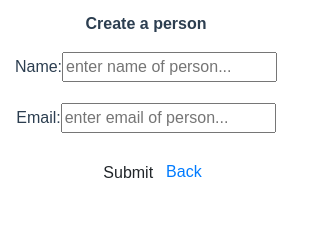
Test: NewPerson.Vue › NewPerson form tests › email should correctly validate
Type "cody" into the field with id "emailInput". click: {"x": 168, "y": 118}
box: [61, 103, 276, 133]
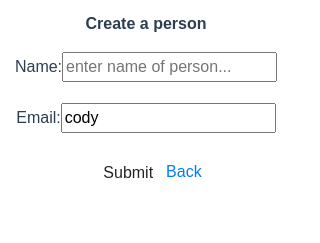
Submit the form from the button with id "submit", box [90, 154, 166, 192]
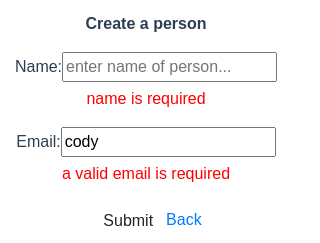
Check: the text "a valid email is required" is shown, box [62, 165, 230, 182]
